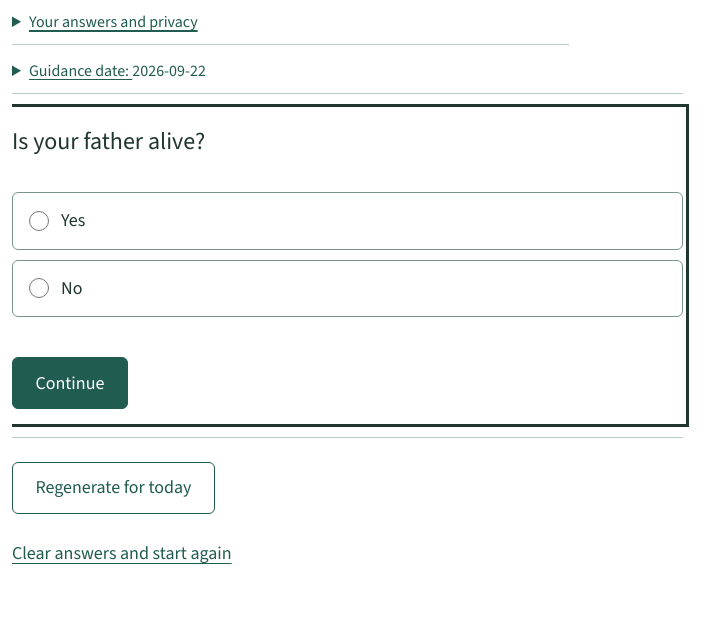
cancellation, isolation and privacy › an earlier-answer edit aborts pending results and clears the branch immediately
The image size is (706, 618).
Click the radio button labelled "No".
click(39, 288)  # box [29,278,49,298]
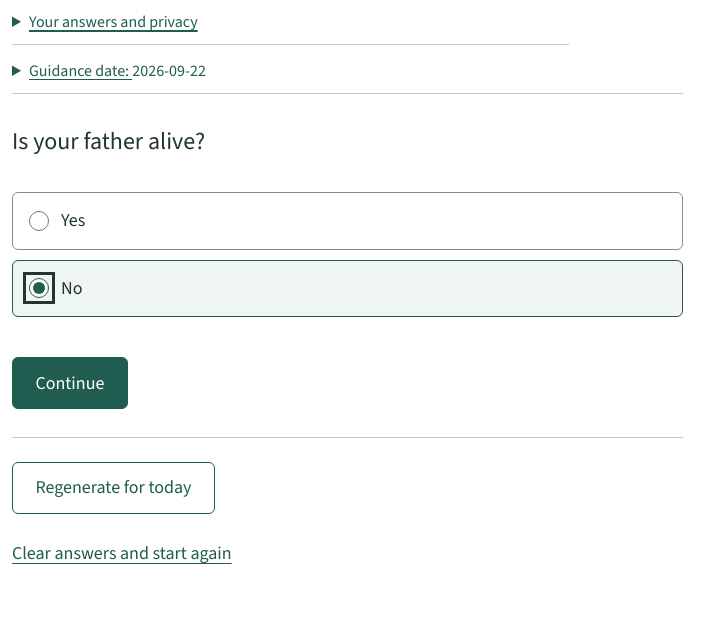
Click the button "Continue".
click(70, 383)  # box [12,357,128,409]
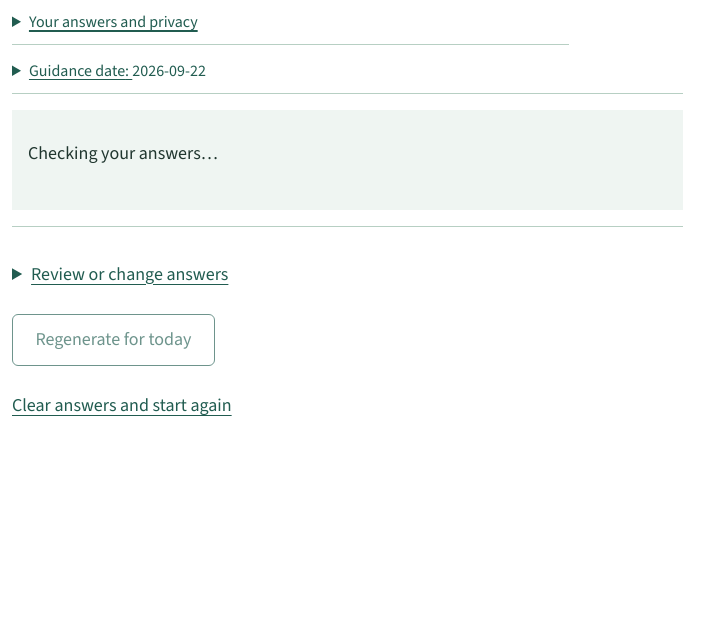
Click the heading "Review or change answers".
click(130, 274)  # box [31,262,228,286]
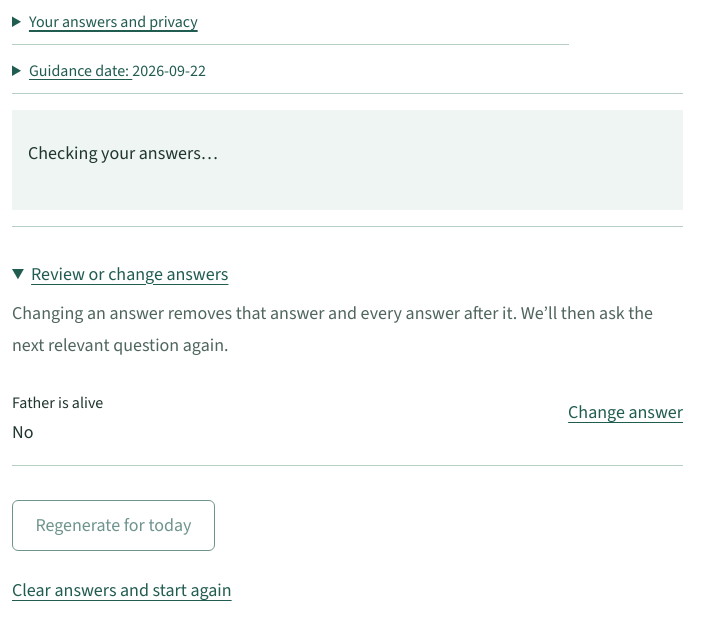
Click the button with aria-label "Change answer: Father is alive".
click(626, 413)  # box [568,389,683,436]
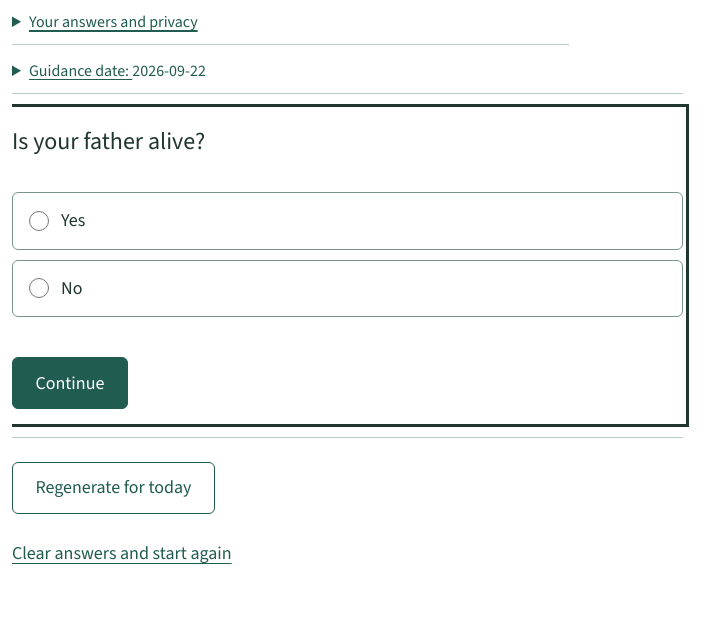
Now the heading "Is your father alive?" is shown, box [12,125,205,157]
